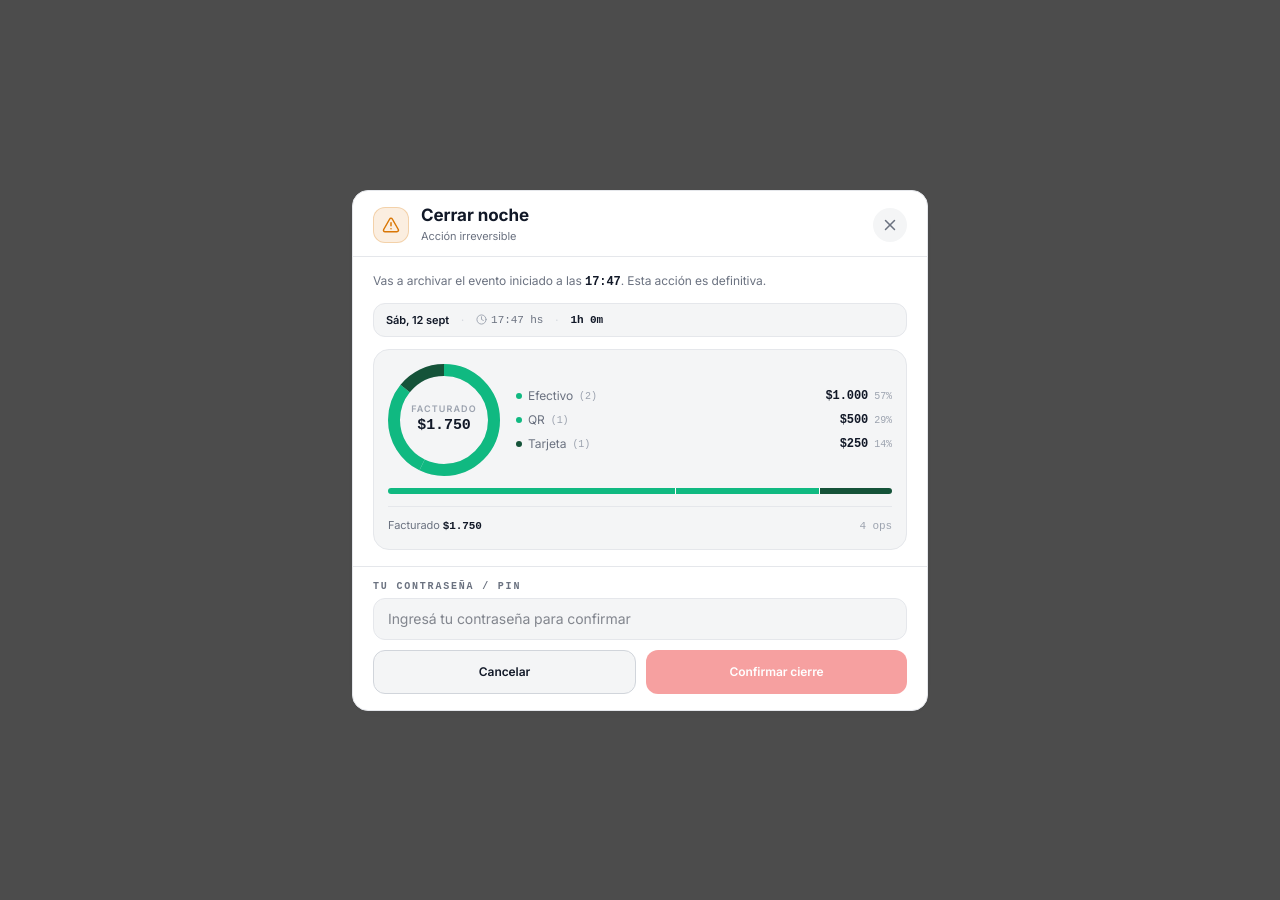
Test: CloseNightModal › deshabilita 'Confirmar cierre' hasta ingresar contraseña
The image size is (1280, 900).
expect the button "Confirmar cierre" is disabled: met, box [646, 650, 907, 694]
Type "1234" into the password field with placeholder "Ingresá tu contraseña para confirmar" at (640, 618), box [373, 598, 907, 640]
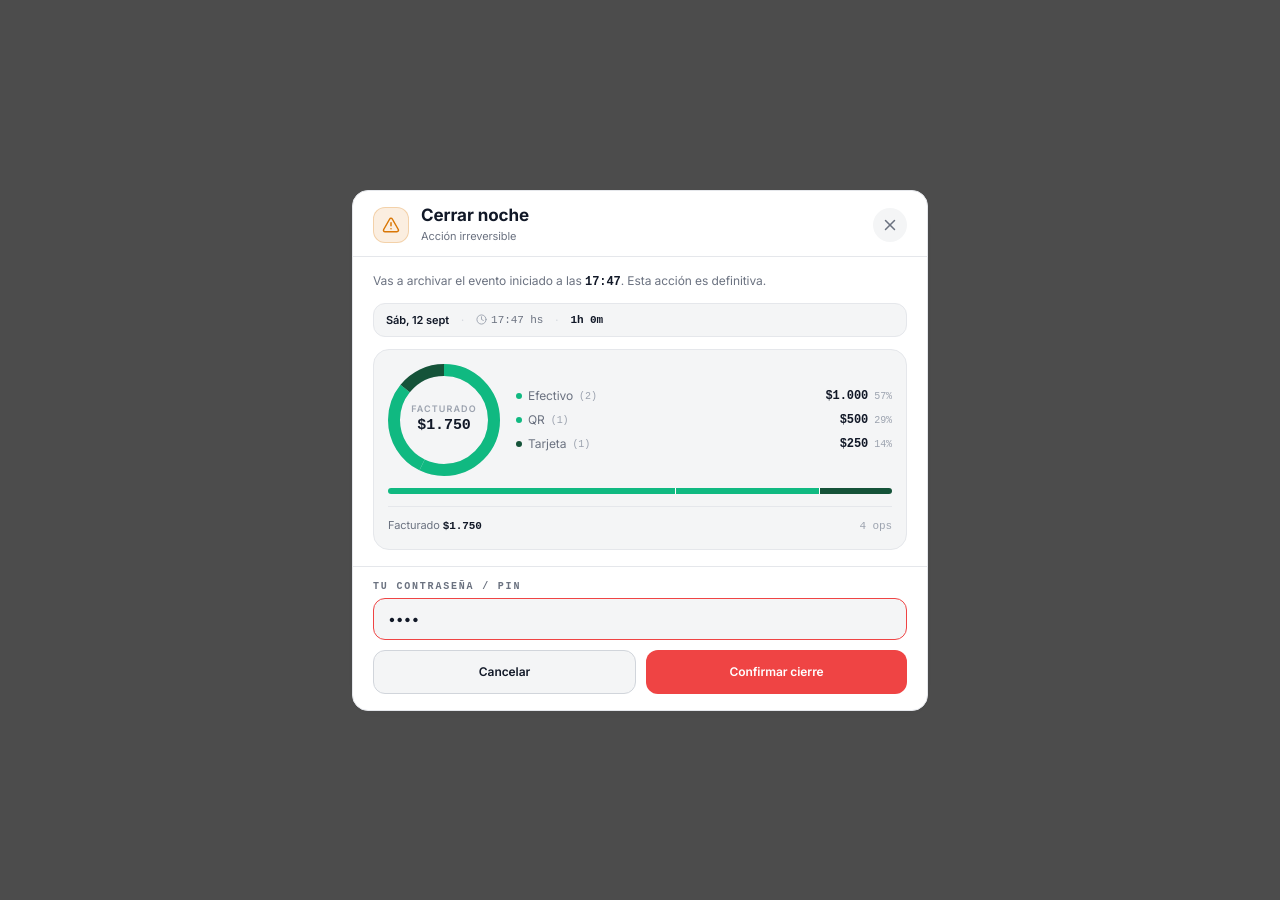
expect the button "Confirmar cierre" is enabled: met, box [646, 650, 907, 694]
